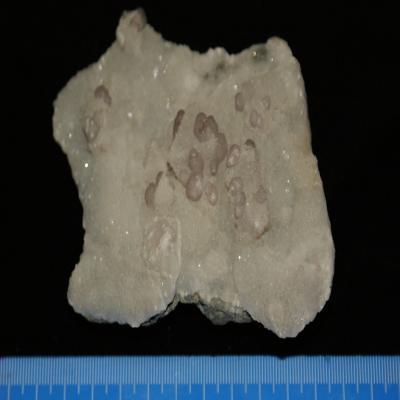mineralogy: (51, 8, 336, 341)
